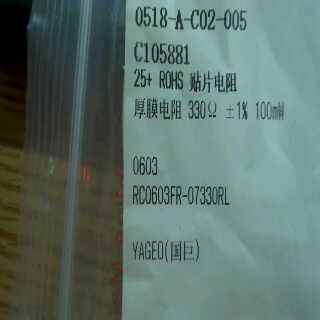330R: (184, 95, 219, 124)
